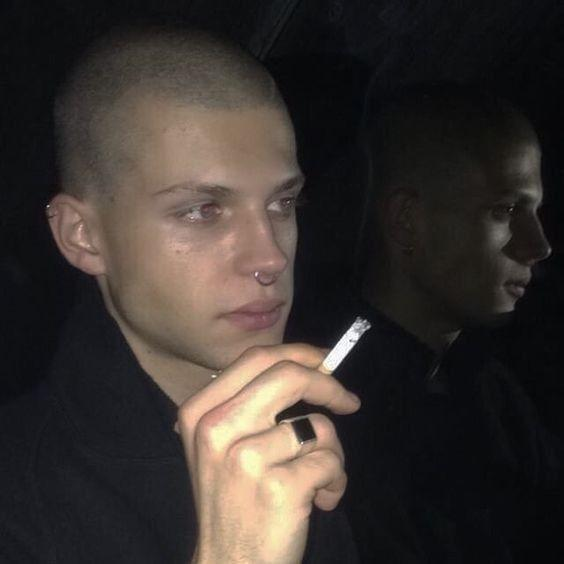cigarette: (316, 316, 372, 376)
